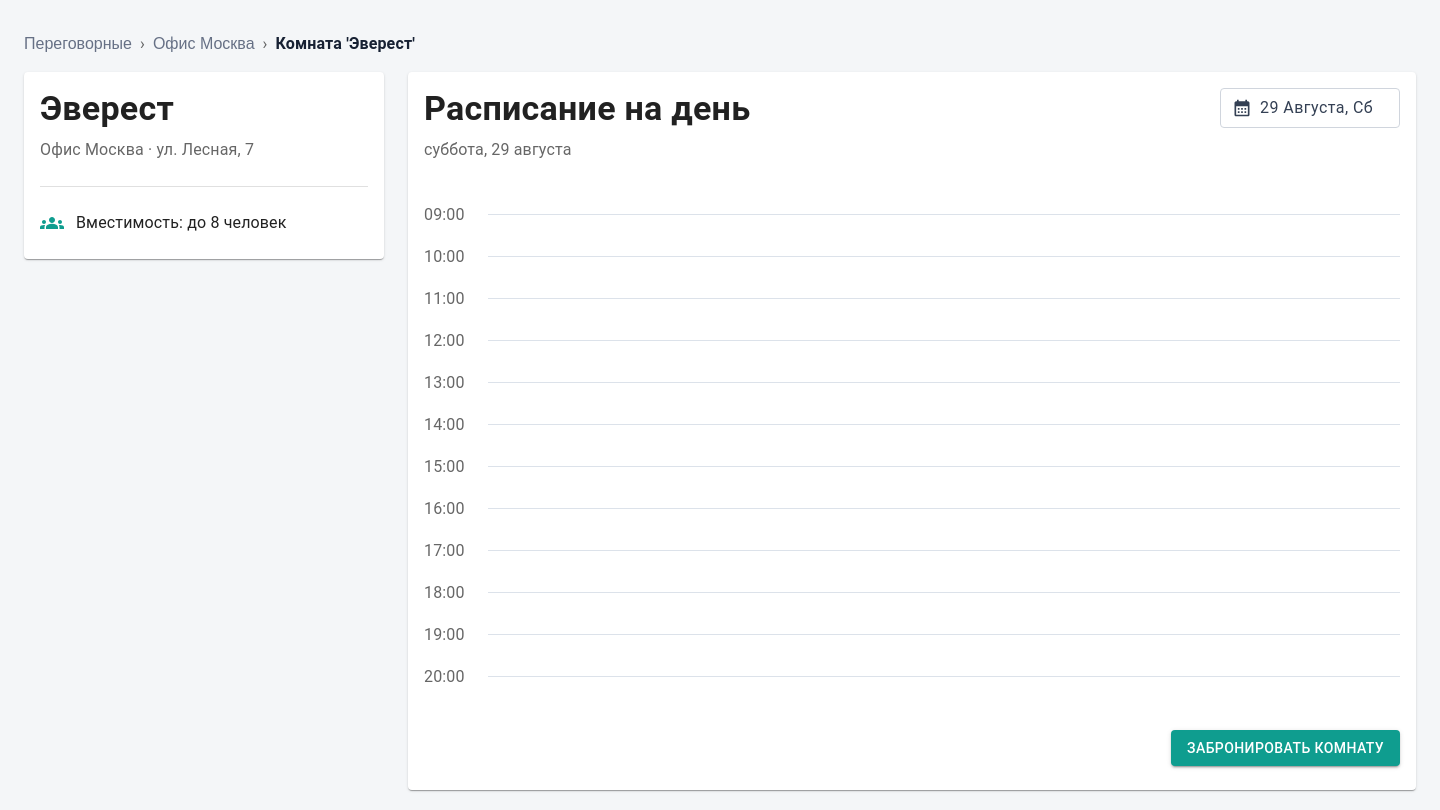
Test: Room booking form › shows title validation after submit
Expected: the heading "Эверест" is shown, x1=40 y1=88 x2=174 y2=128
Click the button "Забронировать комнату".
click(1286, 748)  # box x1=1171 y1=730 x2=1400 y2=766
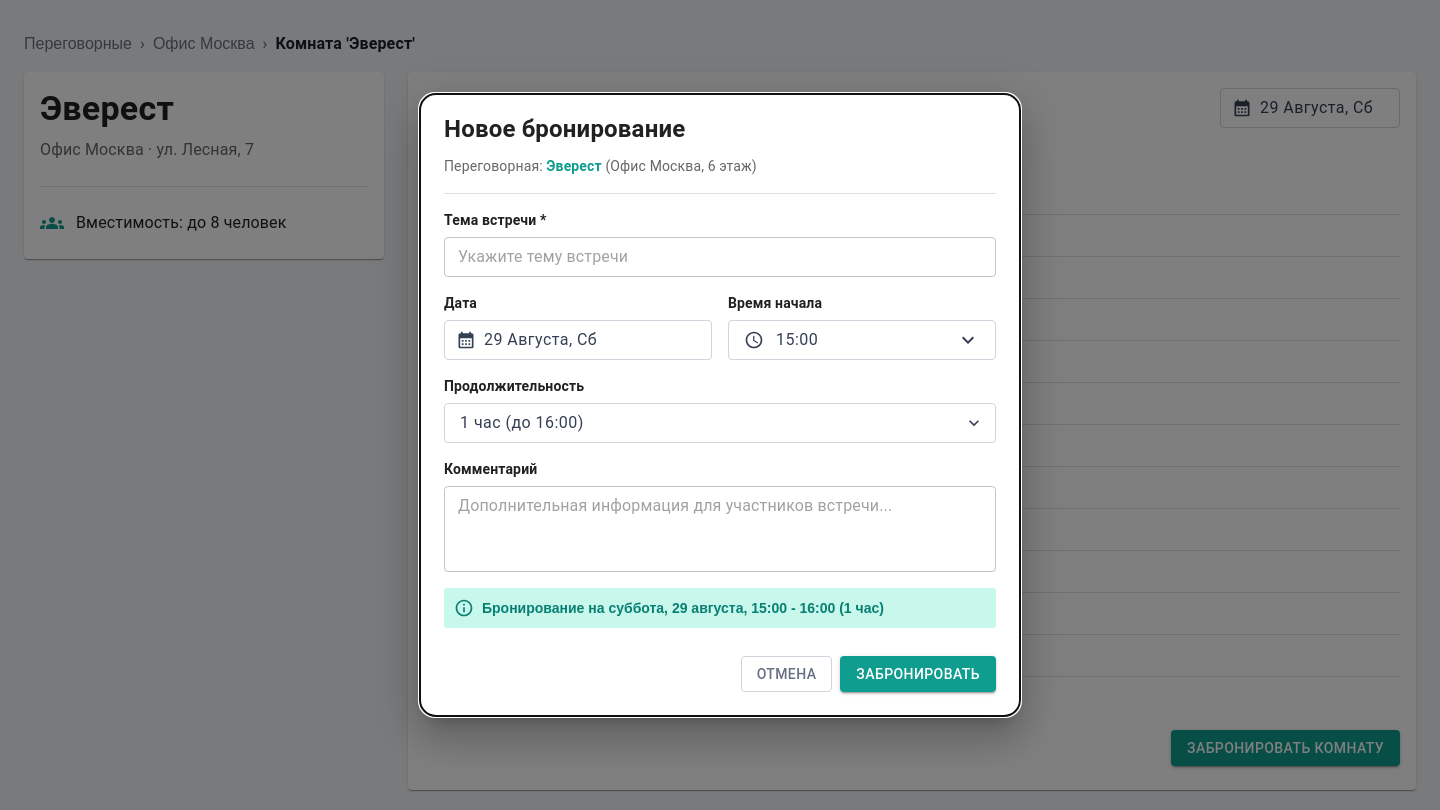
Click the button "Забронировать".
click(918, 674)  # box x1=840 y1=656 x2=996 y2=692
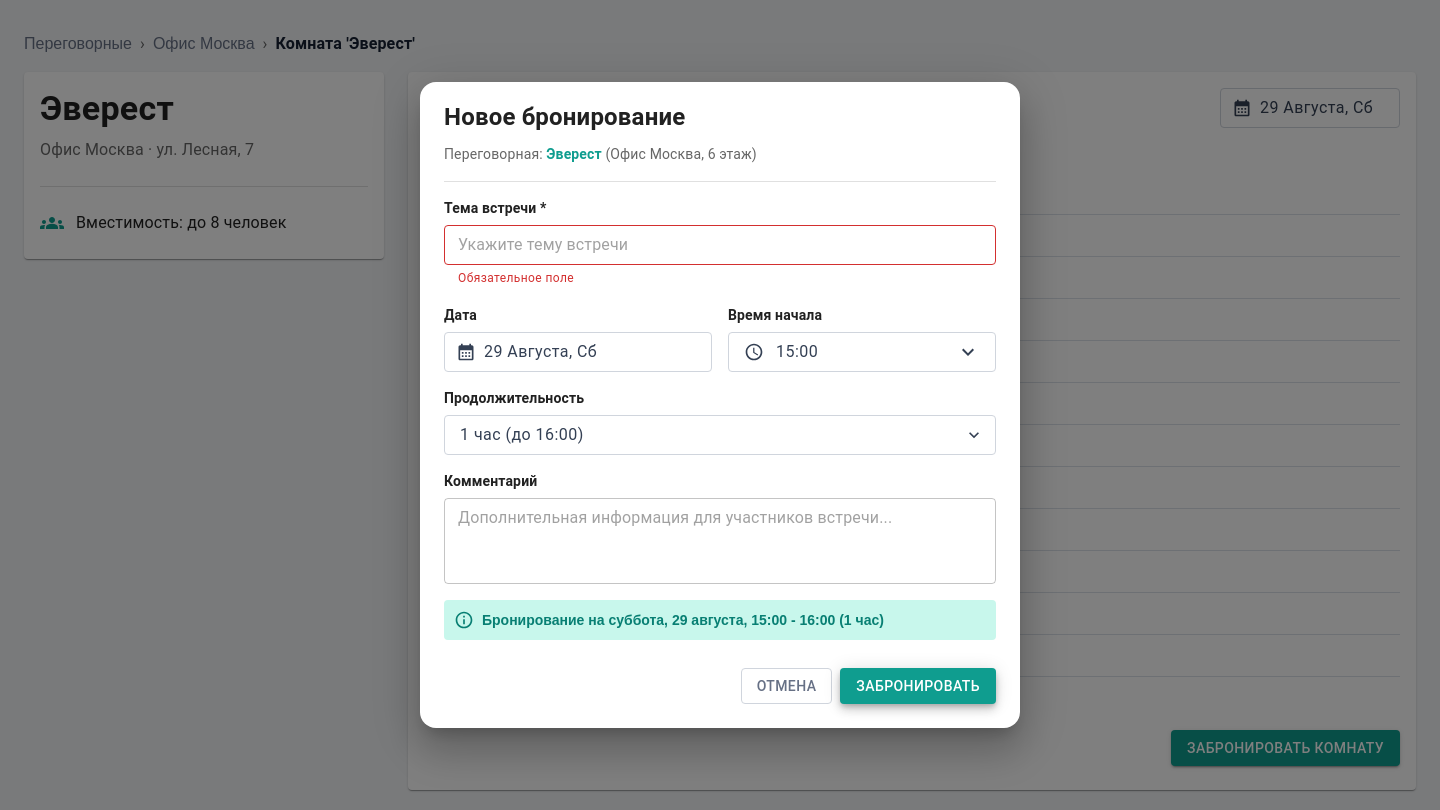
Now the text "Обязательное поле" is shown, box x1=458 y1=271 x2=574 y2=285
